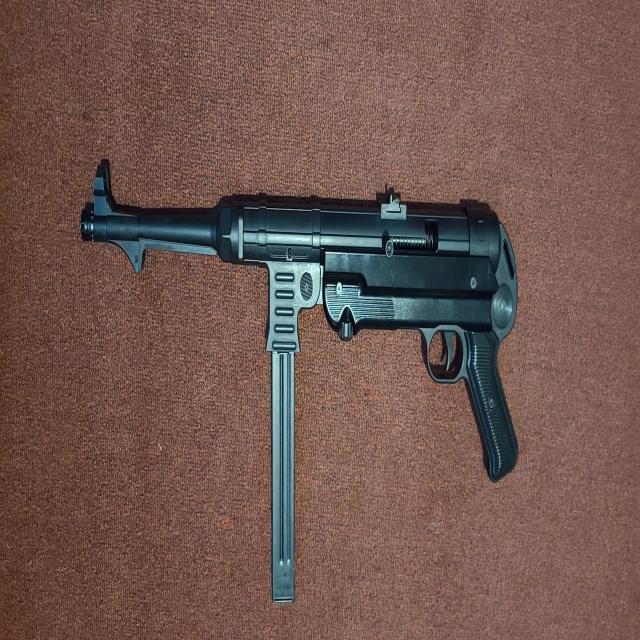SMG: (78, 162, 520, 607)
